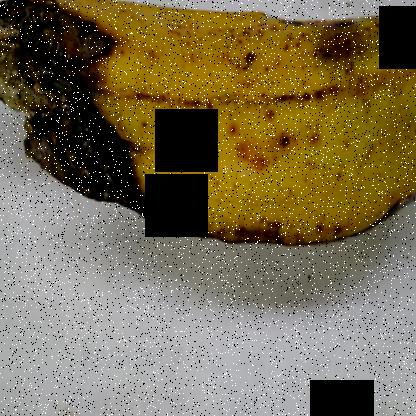rotten: (1, 0, 207, 247), (303, 14, 415, 105)
